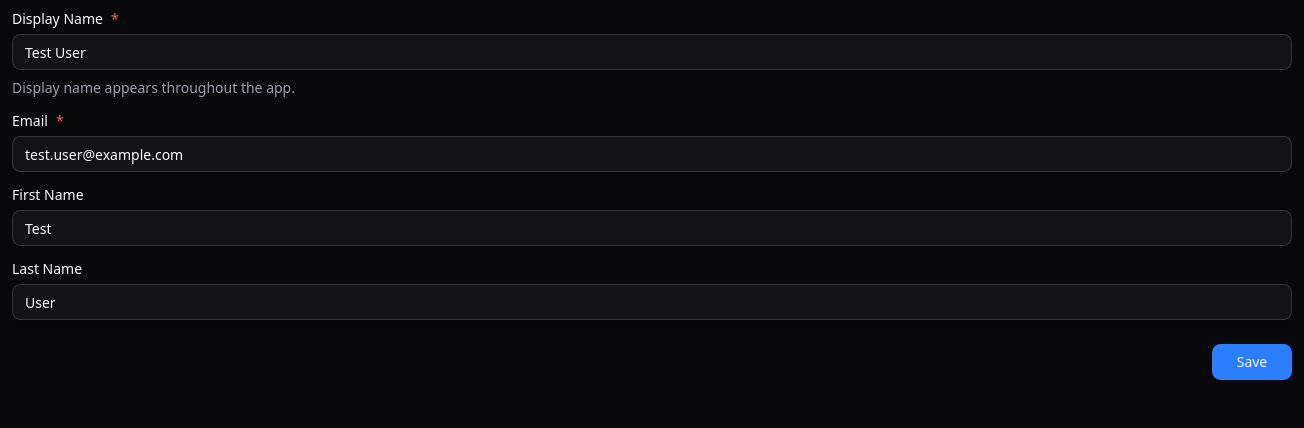
AccountForm › requires a last name
Clear the field labelled "Last Name" at (652, 302), box [12, 284, 1292, 320]
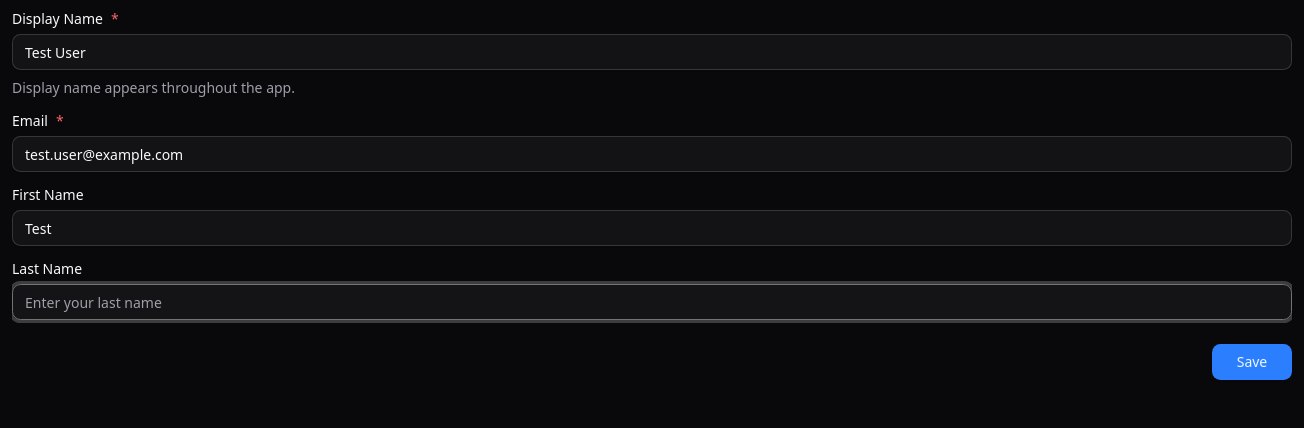
Press Tab
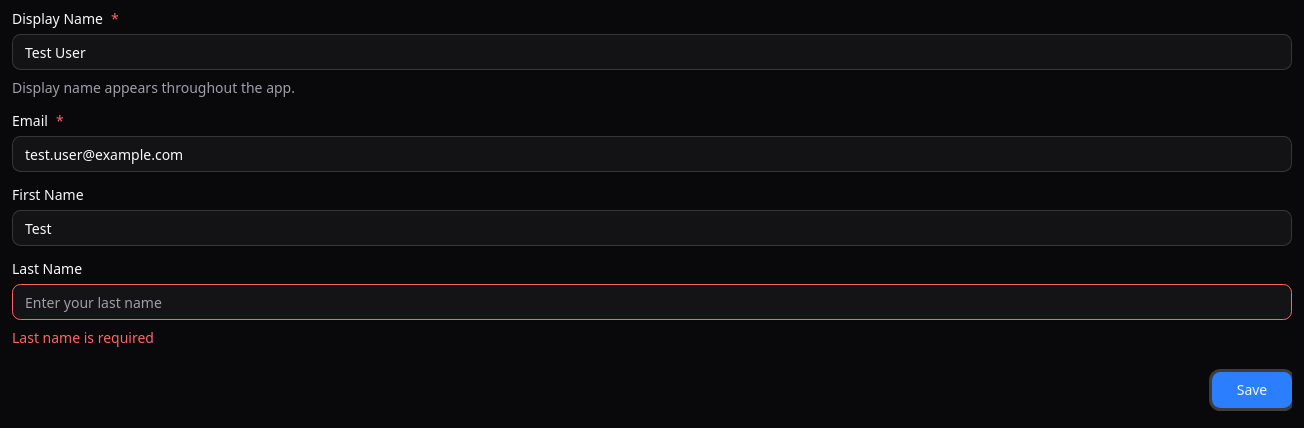
Expected: the text "Last name is required" is shown, [12, 328, 154, 347]
